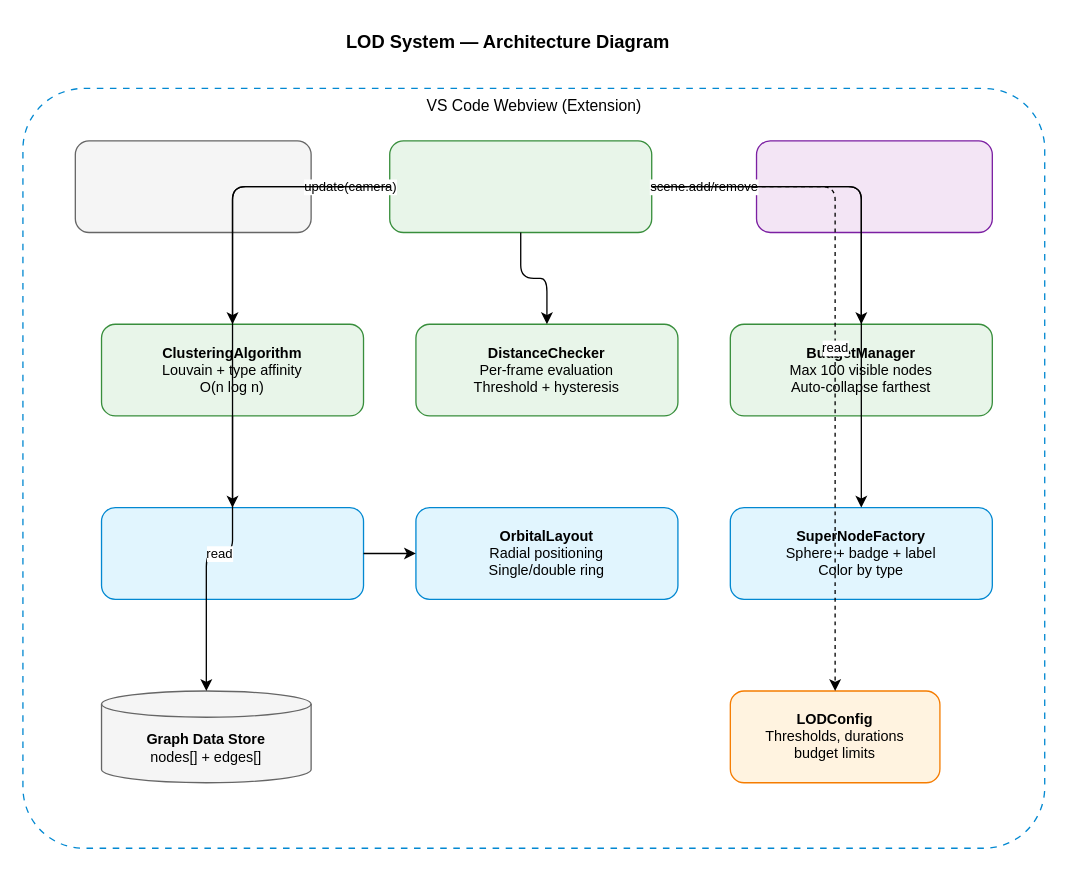
This 1068x871 diagram has some shape labels left out. Each missing label, with the centre of its shape:
AnimationController Expand/collapse tweens easeOutCubic / easeInCubic: (232,552)
GraphRenderer Existing render loop requestAnimationFrame: (192,186)
LODManager Orchestrator initialize() / update() / dispose(): (520,186)
THREE.Scene Scene graph Meshes, Lights, Camera: (873,186)
